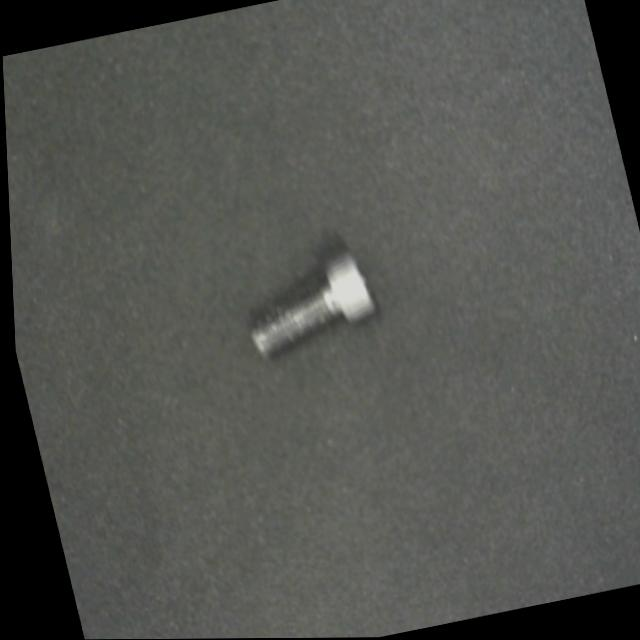SocketHeadCapScrew: (231, 242, 384, 366)
